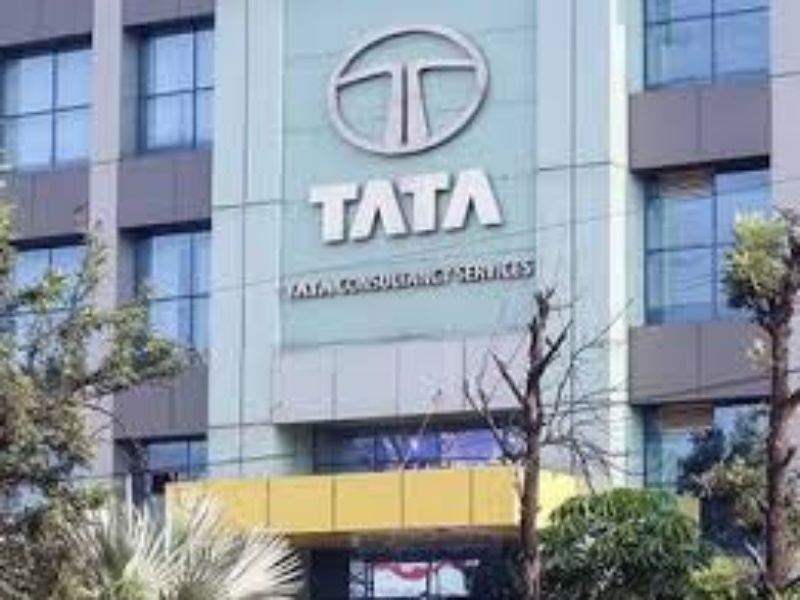tcs: (326, 25, 495, 159)
